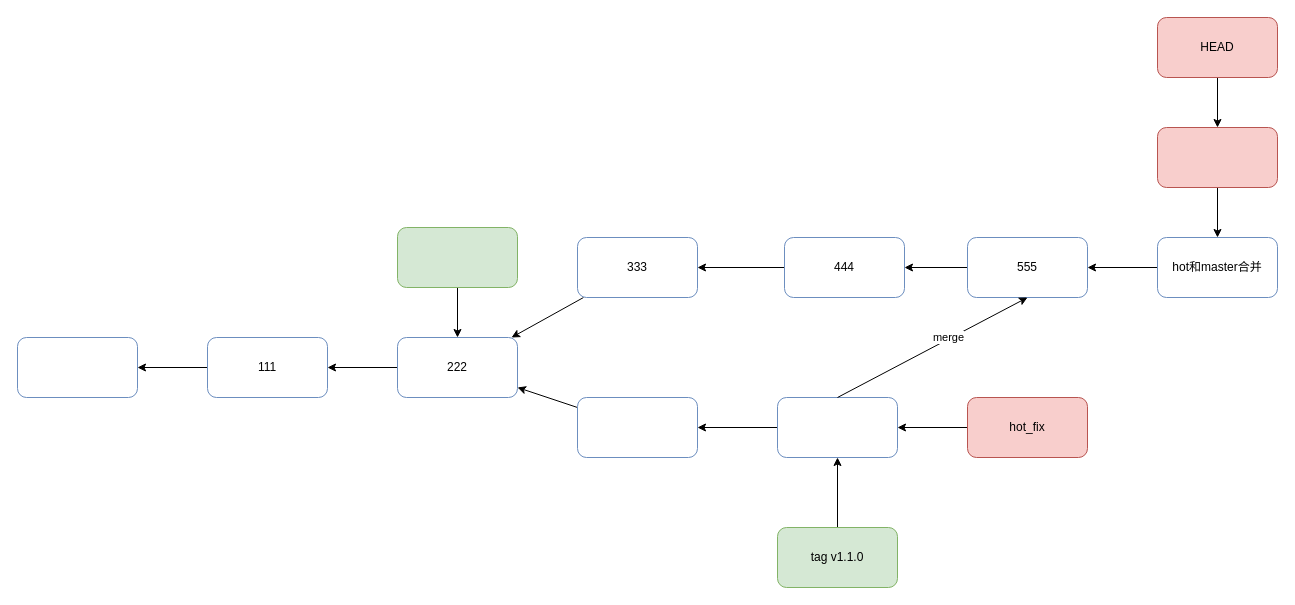
Some shapes in this 1295 by 605 pixel diagram are drawn without their labels. Each missing label, with the box of its shape:
hot_fix01: (576, 396, 698, 458)
hot_fix02: (776, 396, 898, 458)
master: (1156, 126, 1278, 188)
tag v1.0.0: (396, 226, 518, 288)
初始化项目: (16, 336, 138, 398)
